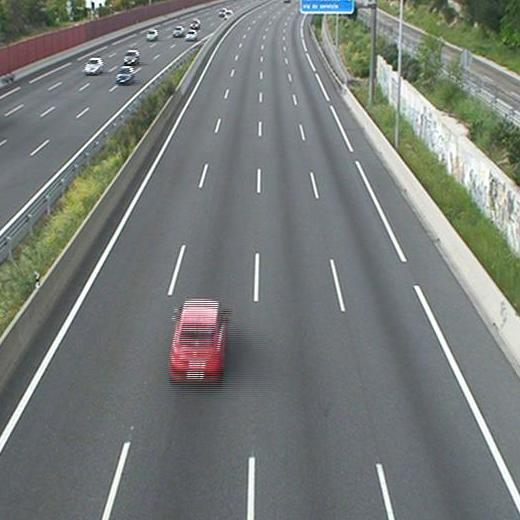car: (170, 302, 226, 371)
